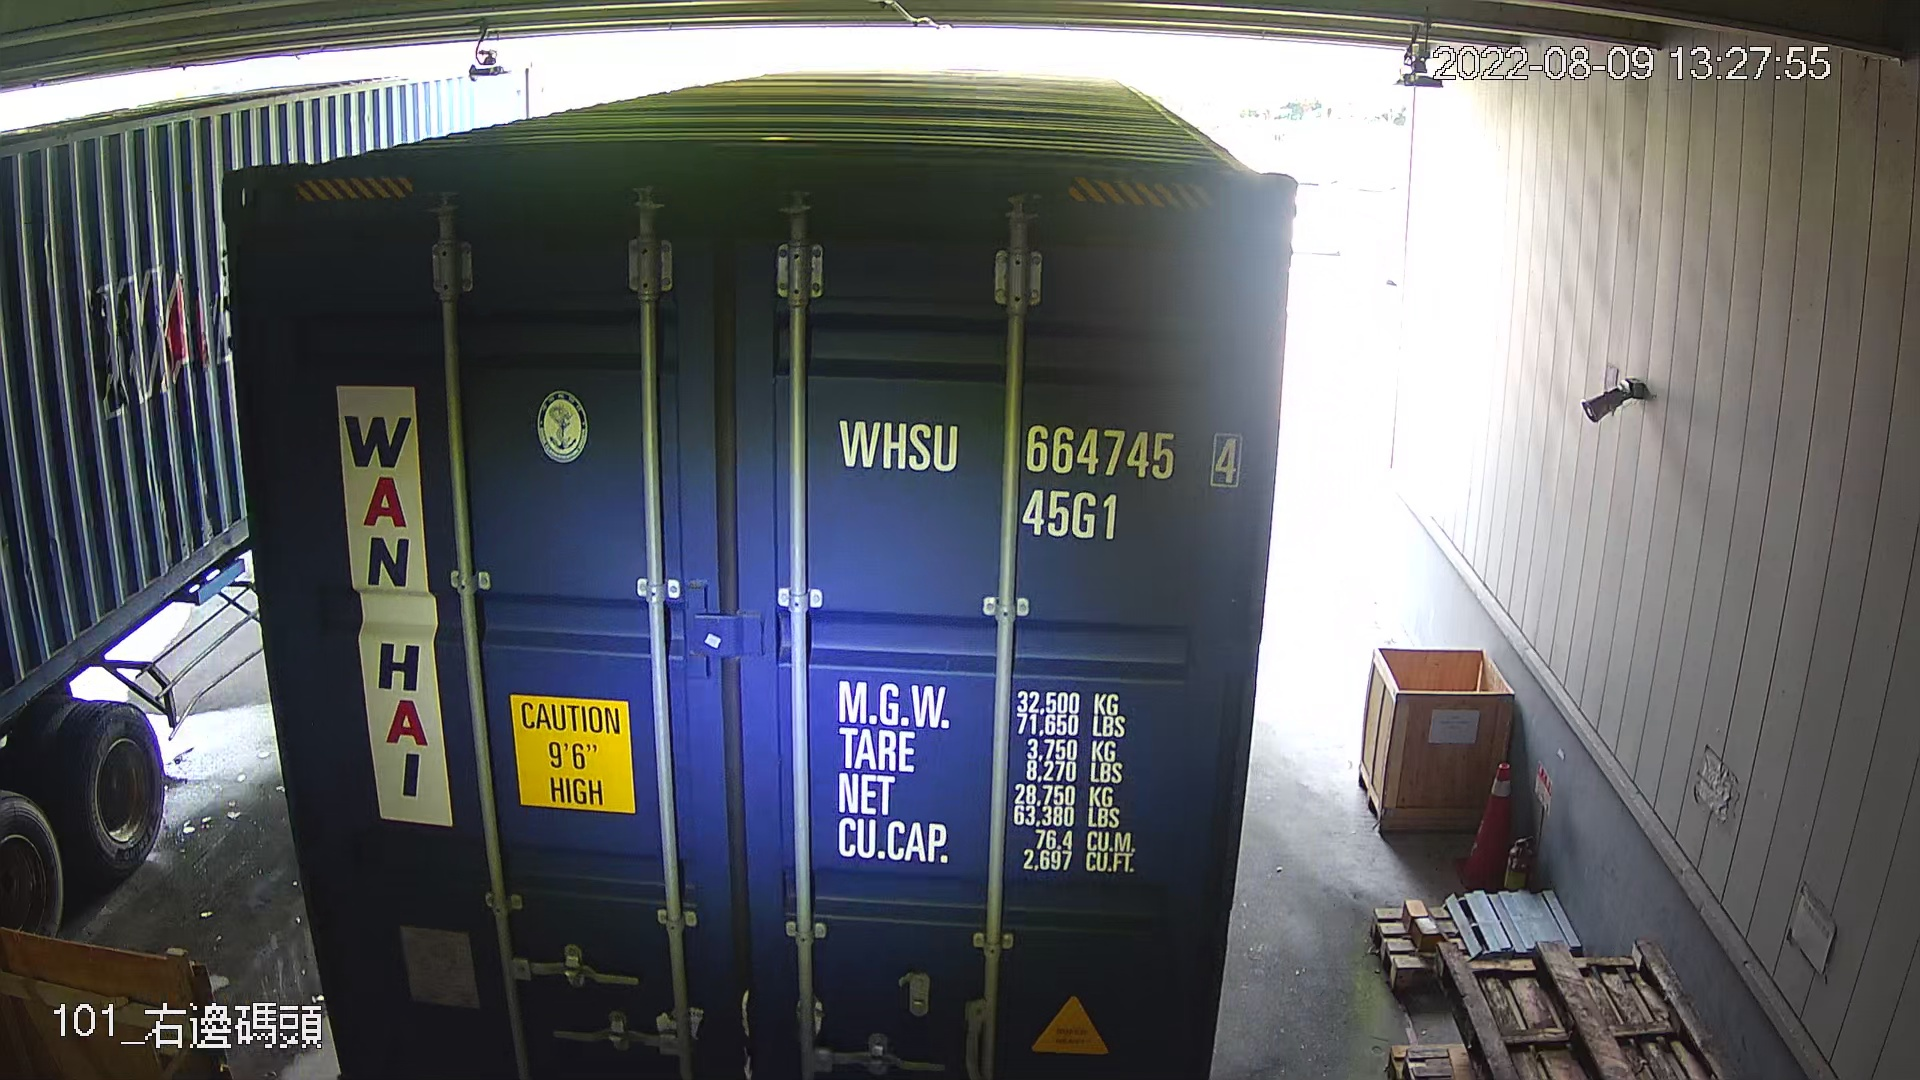container: (828, 404, 1251, 554)
